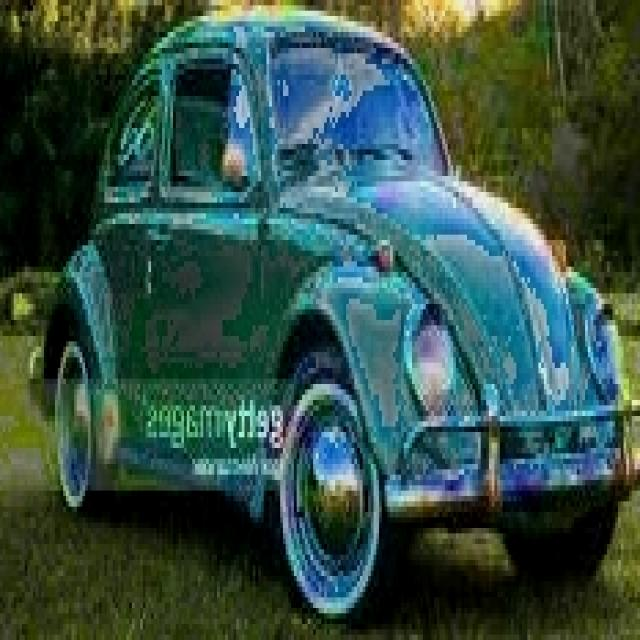green: (27, 11, 640, 624)
